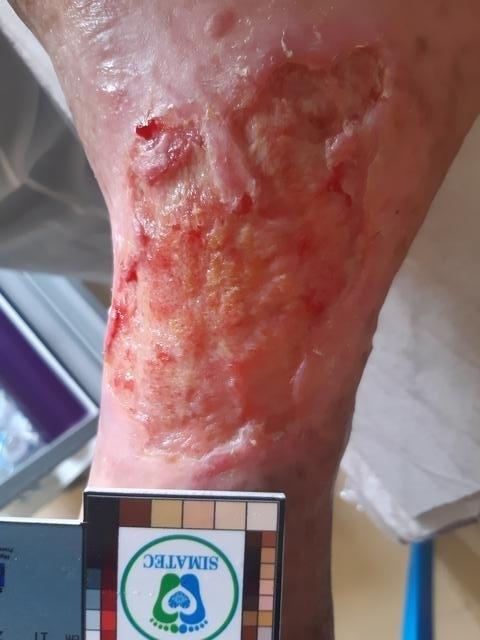wound: (109, 44, 385, 462)
